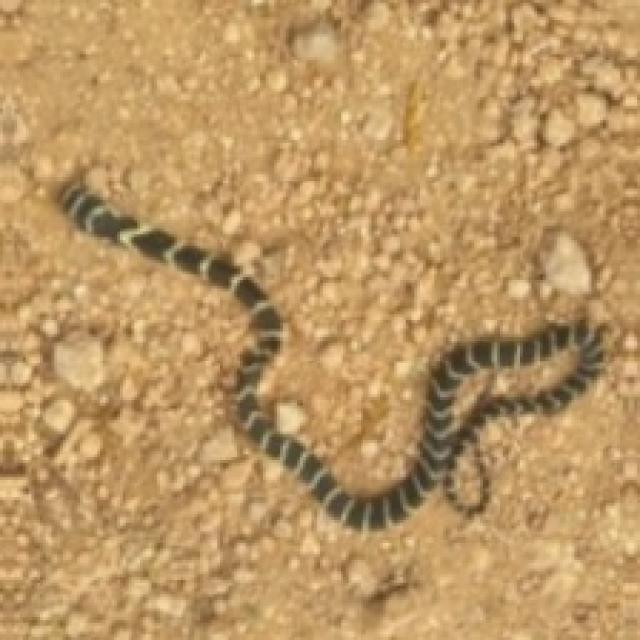king cobra: (57, 183, 600, 529)
